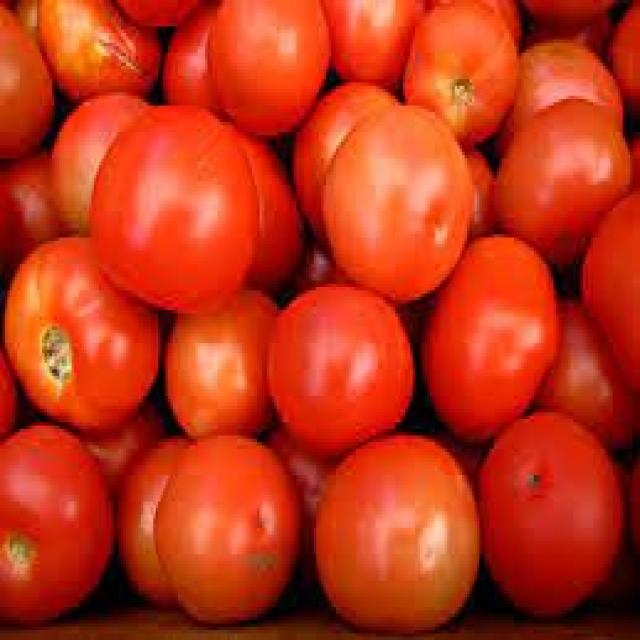Fresh_tomato: (320, 441, 480, 633), (157, 440, 310, 633), (496, 418, 636, 622), (432, 244, 565, 437), (117, 128, 255, 311), (502, 103, 636, 277), (276, 288, 420, 448), (347, 114, 471, 296), (4, 417, 109, 627), (200, 1, 332, 136), (0, 0, 56, 166), (116, 116, 120, 121)
